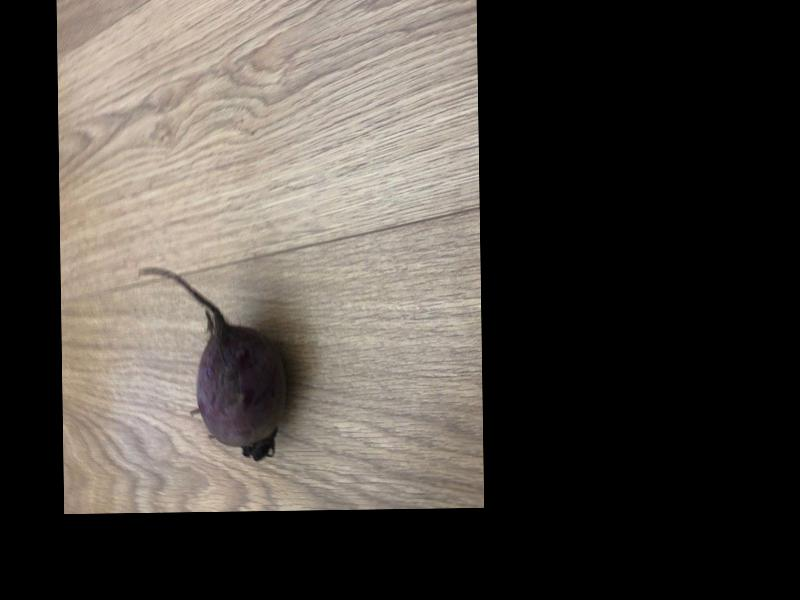Beet: (138, 261, 288, 459)
